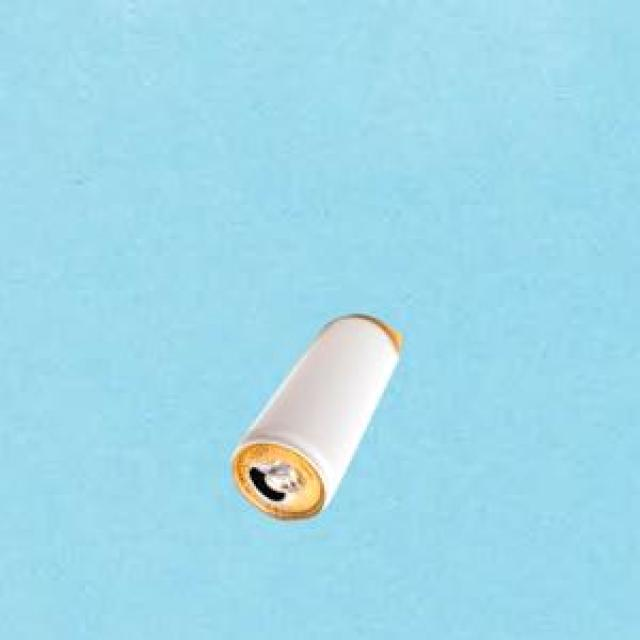logam: (229, 313, 398, 517)
